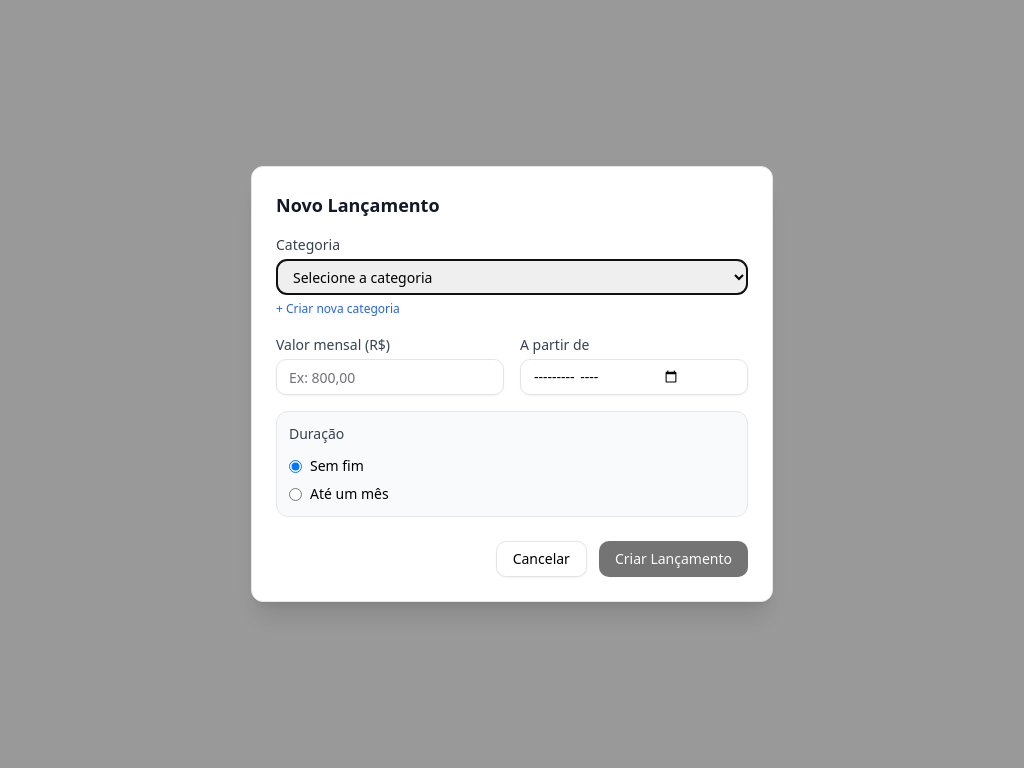
Test: diálogo de novo lançamento em Plano de Gastos › o início começa vazio e sem ele não cria
Check: the field labelled "A partir de" is empty, box [520,359,748,395]
Select "Mercado" in the dropdown at (512, 277), box [276,259,748,295]
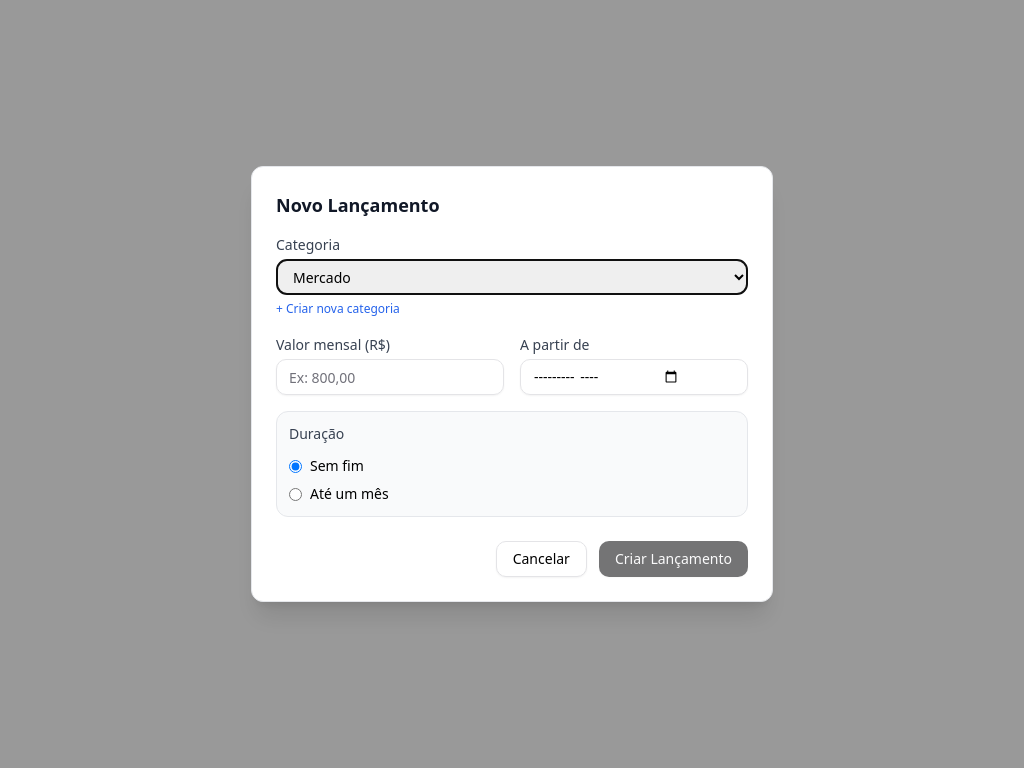
Type "800,00" into the field with placeholder "Ex: 800,00" at (390, 377), box [276,359,504,395]
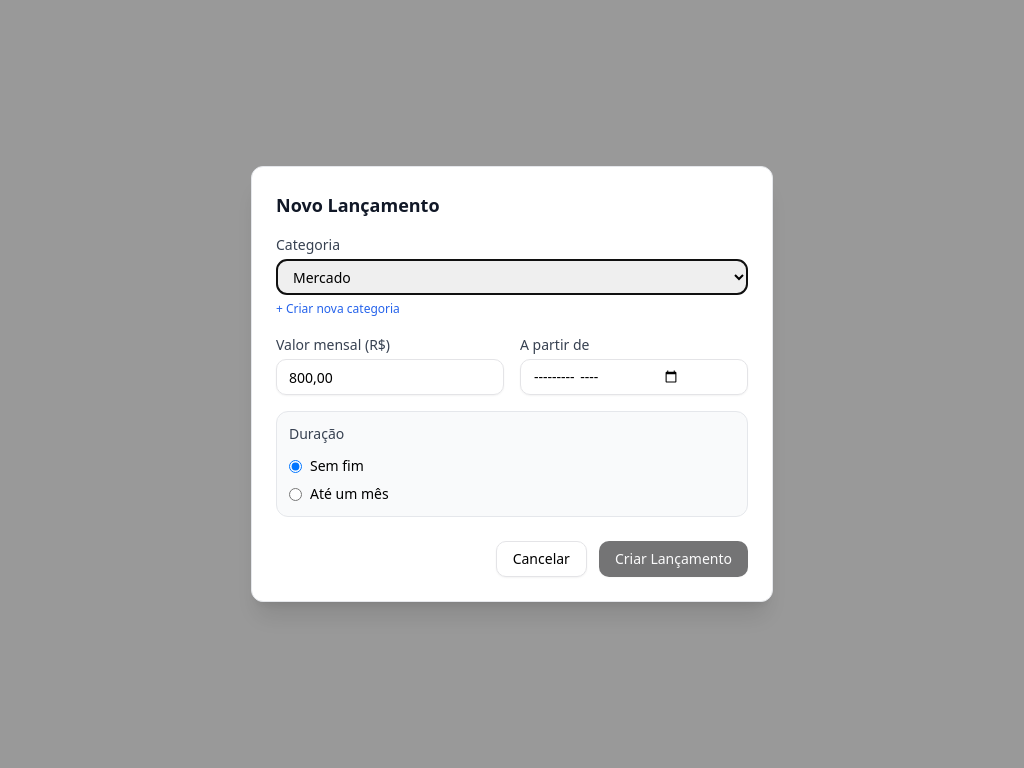
Check: the button "Criar Lançamento" is disabled, box [599,541,748,577]
Type "2027-01" into the field labelled "A partir de" at (634, 377), box [520,359,748,395]
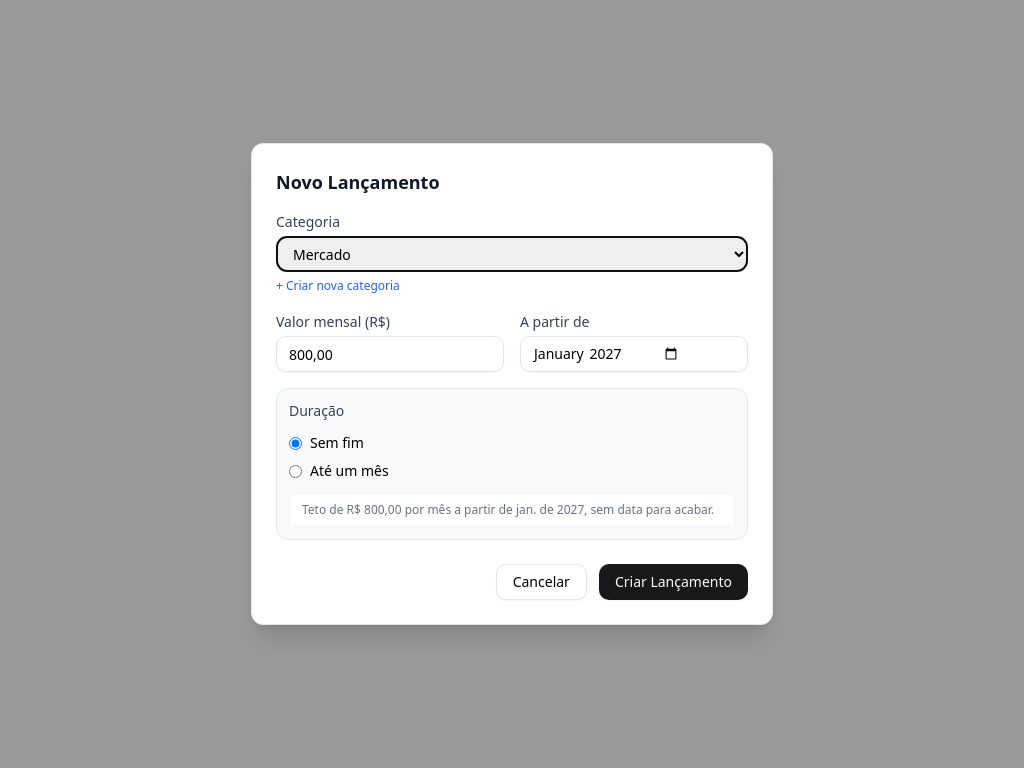
Check: the button "Criar Lançamento" is enabled, box [599,564,748,600]
